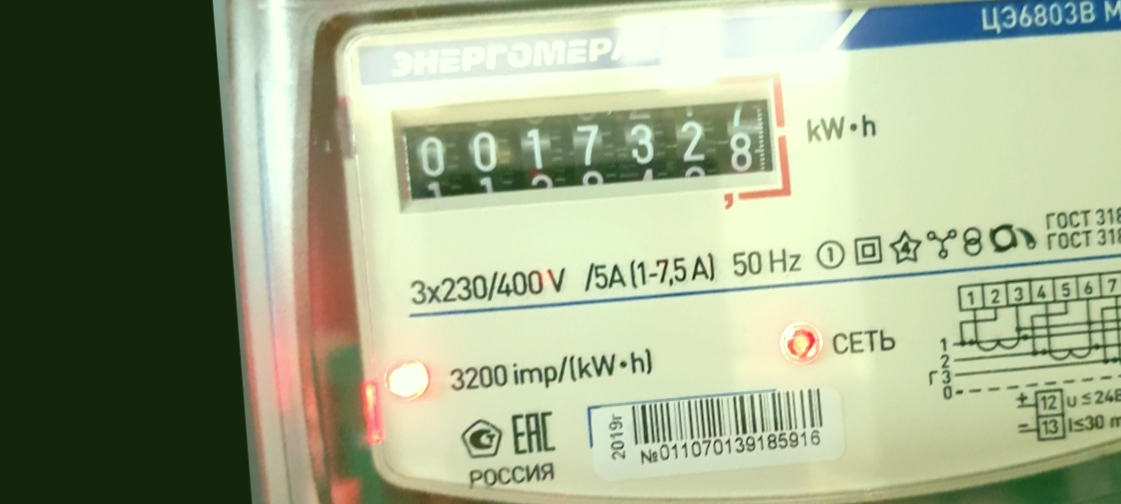0: (415, 133, 450, 180), (469, 127, 501, 174)
1: (523, 124, 548, 172)
2: (676, 117, 708, 164)
3: (627, 120, 657, 166)
7: (573, 121, 603, 169)
8: (726, 129, 754, 173)
screen: (381, 72, 800, 232)
